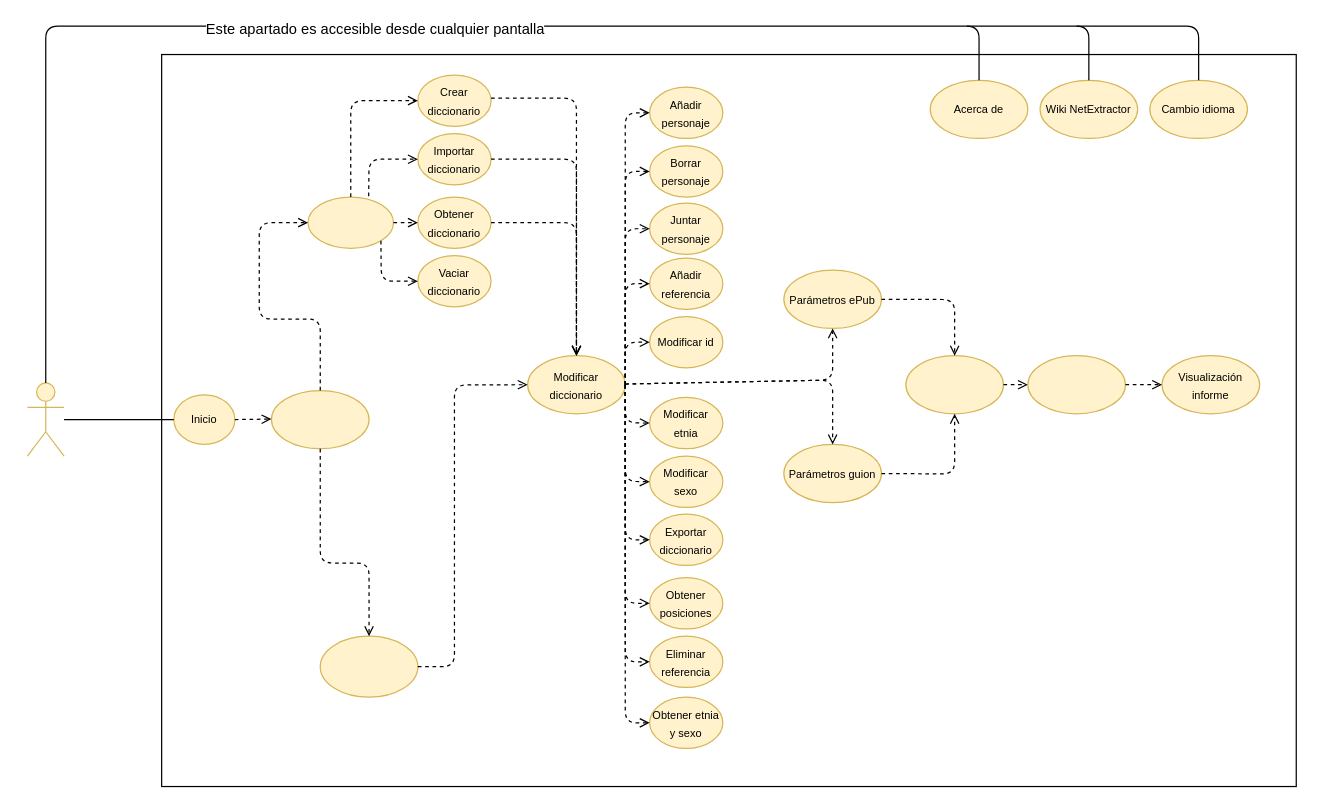
Some shapes in this 1318 by 809 pixel diagram are drawn without their labels. Each missing label, with the centre of its shape:
Creación diccionario: point 350,222
Introducción guion: point 368,666
Selección características: point 1076,384
Selección ePub/película: point 319,419
Usuario: point 45,419
Visualización red: point 954,384
